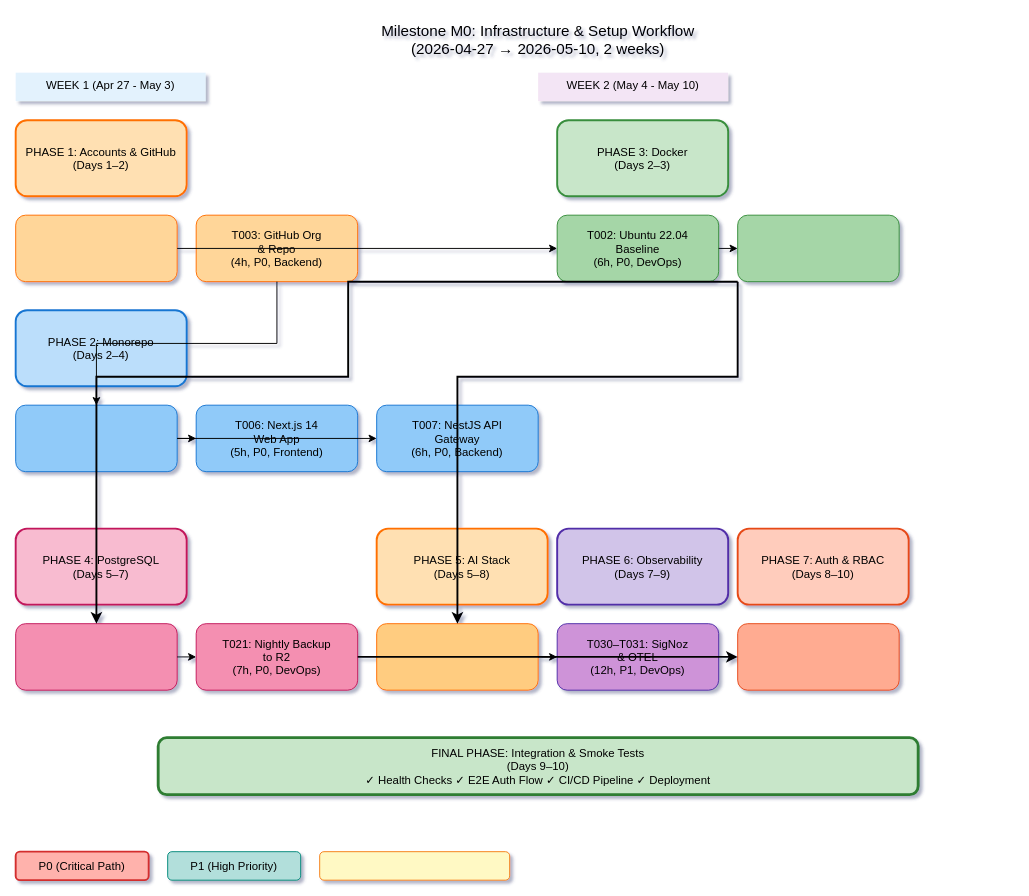
The diagram is 1029 pixels wide and 896 high, and some of its shapes have lost their labels. The box of each missing label's shape, as (x1, y1, x2, y2) in pixels:
20% Velocity Buffer (84 hours): (319, 851, 510, 880)
T001: Oracle VM Provisioning (8h, P0, DevOps): (15, 214, 177, 282)
T005: Turborepo Scaffold (6h, P0, Backend): (15, 404, 177, 472)
T011: Docker Installation (5h, P0, DevOps): (737, 214, 899, 282)
T017: PostgreSQL 15 & pgvector (9h, P0, Backend): (15, 623, 177, 690)
T026–T028: Ollama & Gemma4 (22h, P0, DevOps): (376, 623, 538, 690)
T039–T041: BetterAuth & Login/Register (22h, P0, Backend): (737, 623, 899, 690)
